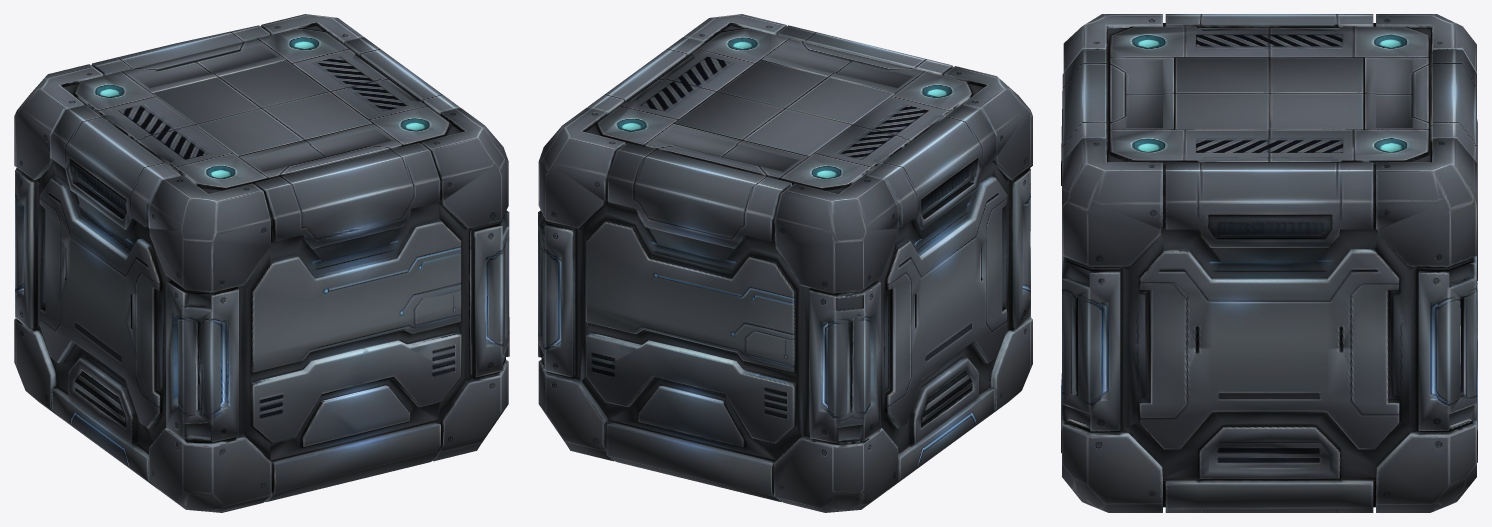
Rendered from selected.glb.
3 views of the same model, side by side, from view 1: azimuth 30°, elevation 25°; view 2: azimuth 150°, elevation 25°; view 3: azimuth 270°, elevation 25° (orthographic). The views are drawn at different scales.
Parts seen in each view (by area): view 1: tripo_node_ca397be6-49b7-499d-943d-fbdc65a9f0ef; view 2: tripo_node_ca397be6-49b7-499d-943d-fbdc65a9f0ef; view 3: tripo_node_ca397be6-49b7-499d-943d-fbdc65a9f0ef.
Boxes of the visible parts, bbox=[...] form: tripo_node_ca397be6-49b7-499d-943d-fbdc65a9f0ef: bbox=[14, 14, 509, 512]; tripo_node_ca397be6-49b7-499d-943d-fbdc65a9f0ef: bbox=[538, 14, 1032, 512]; tripo_node_ca397be6-49b7-499d-943d-fbdc65a9f0ef: bbox=[1061, 14, 1477, 512].
Size of the model in its own units: 0.9785 by 0.877 by 0.9746.
1 material, 1 textured.
